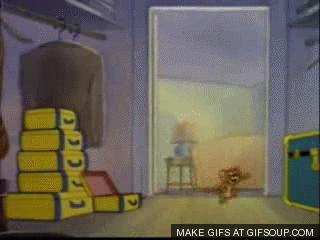jerry: (216, 167, 251, 206)
